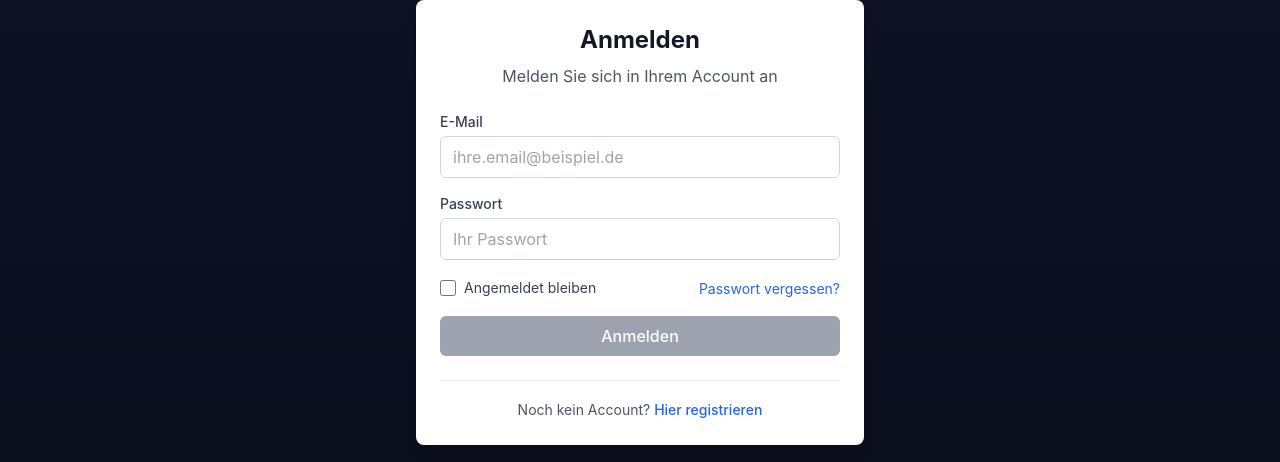
Test case: LoginForm › shows loading state during submission
In the field labelled "E-Mail": (640, 157) [440, 136, 840, 178], type "test@example.com"
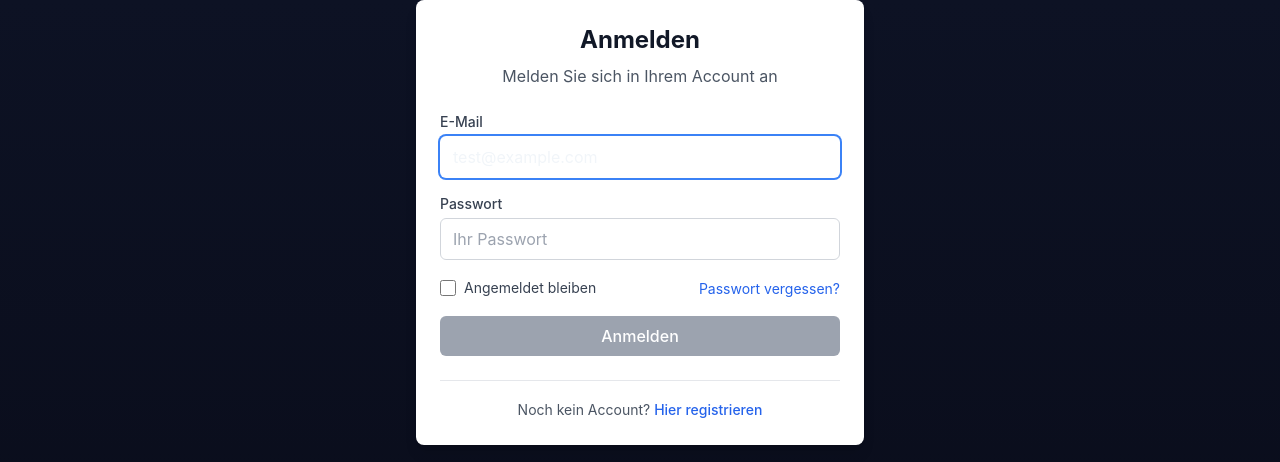
In the password field labelled "Passwort": (640, 239) [440, 218, 840, 260], type "password123"
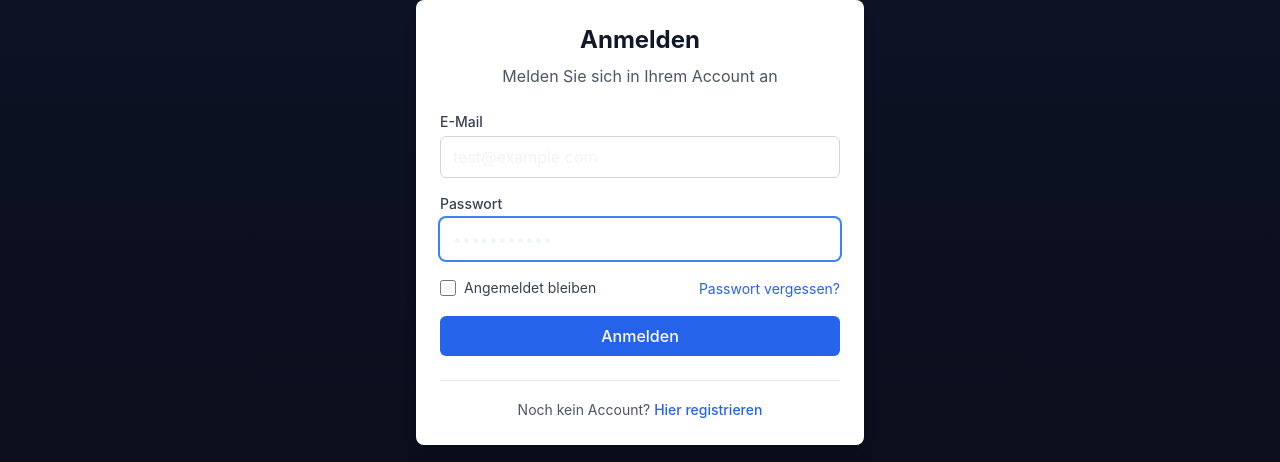
Click the button "Anmelden": (640, 336) [440, 316, 840, 356]
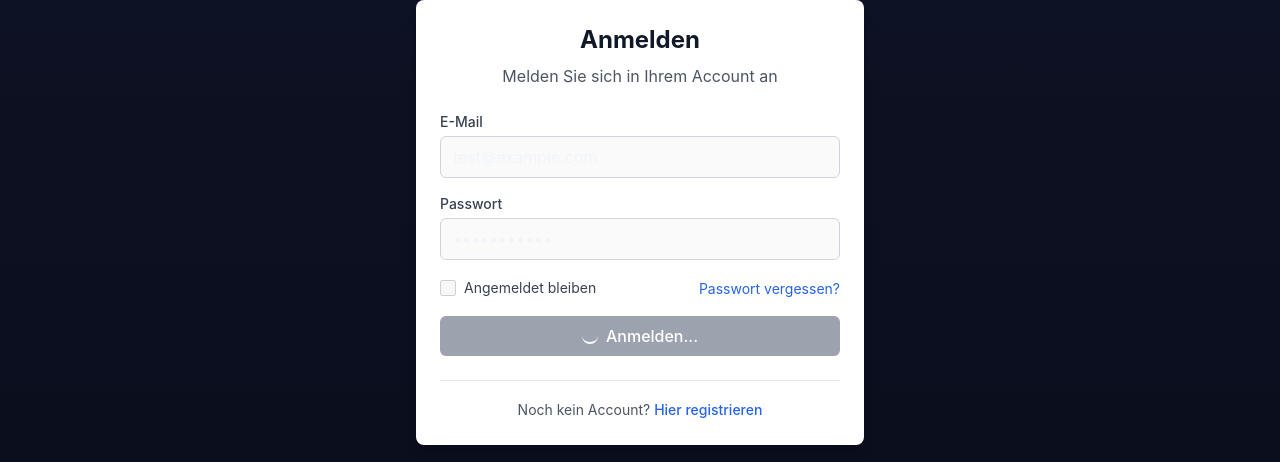
expect the field labelled "E-Mail" is disabled: met, box [440, 136, 840, 178]
expect the button "Anmelden..." is disabled: met, box [440, 316, 840, 356]
